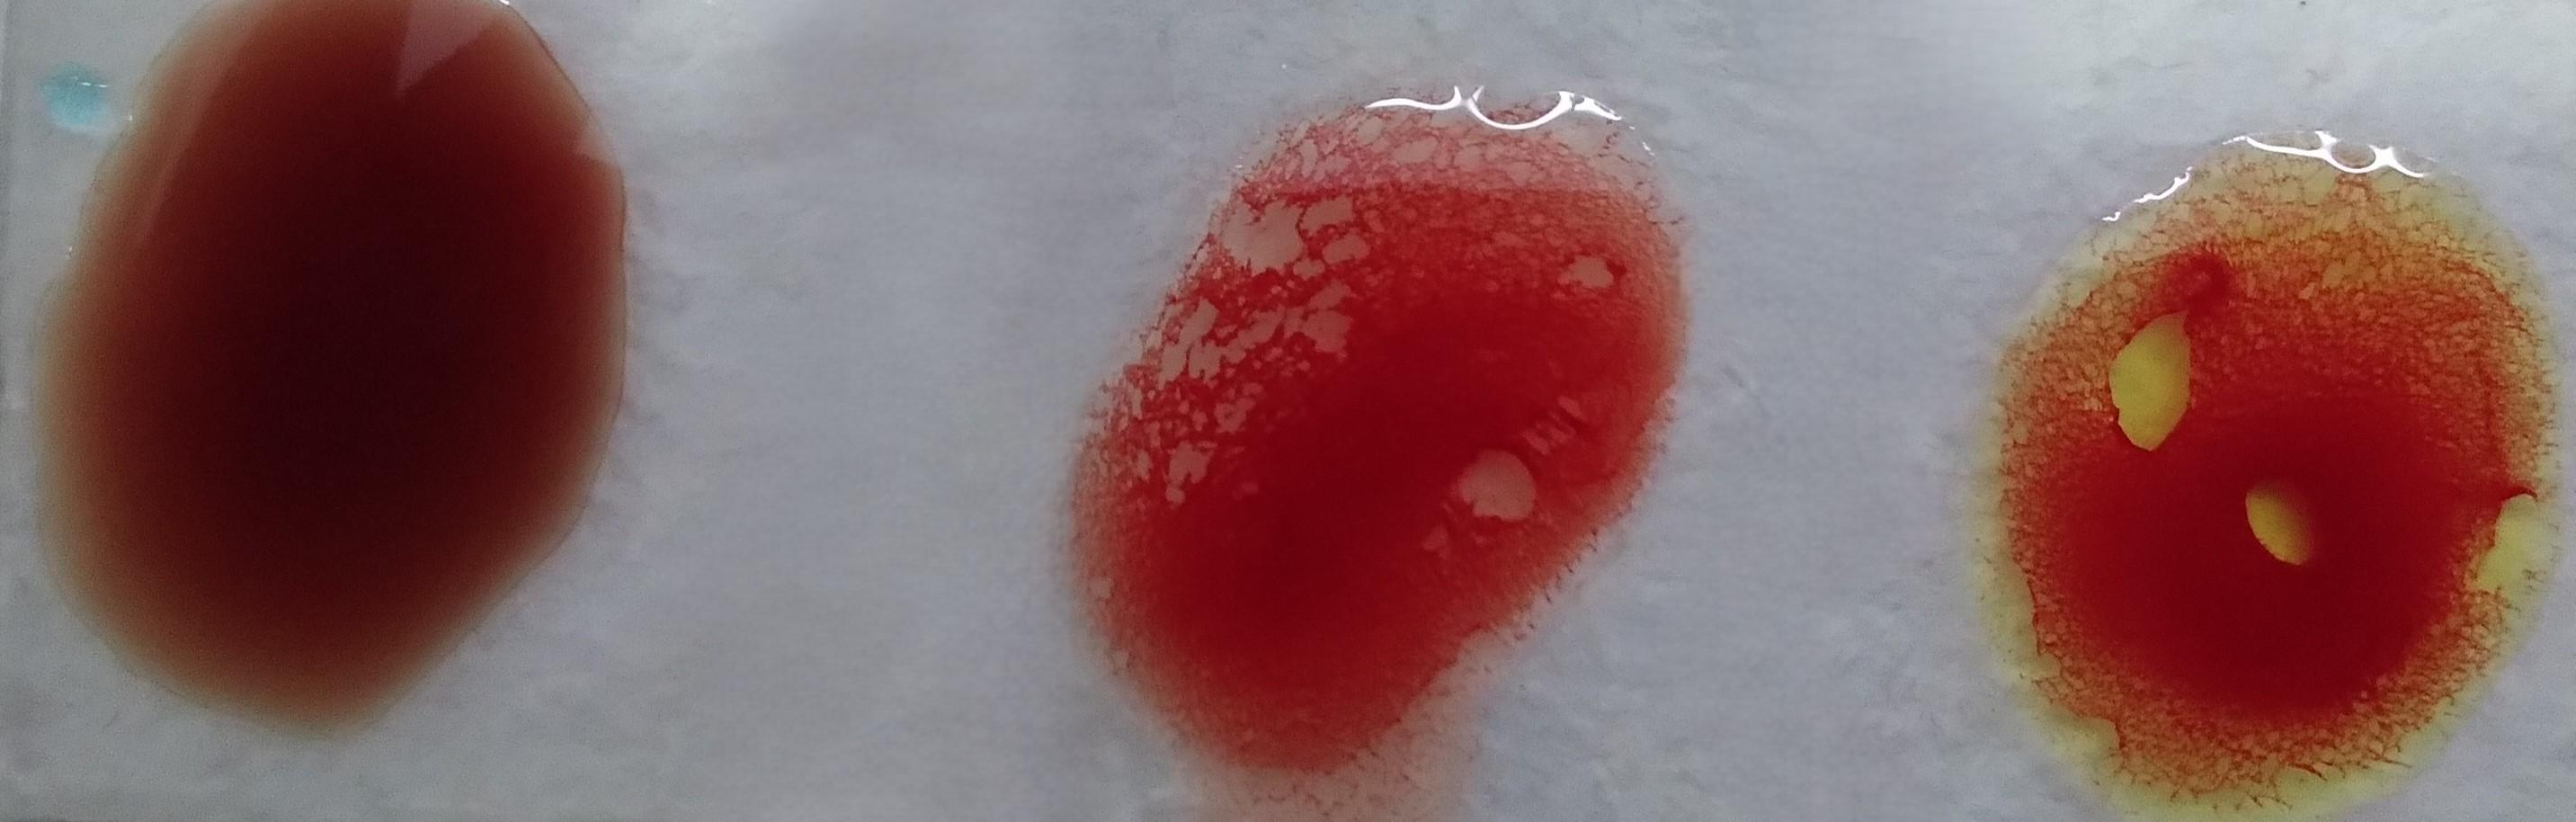B: (1999, 122, 2510, 822)
D: (1120, 97, 1651, 789)
